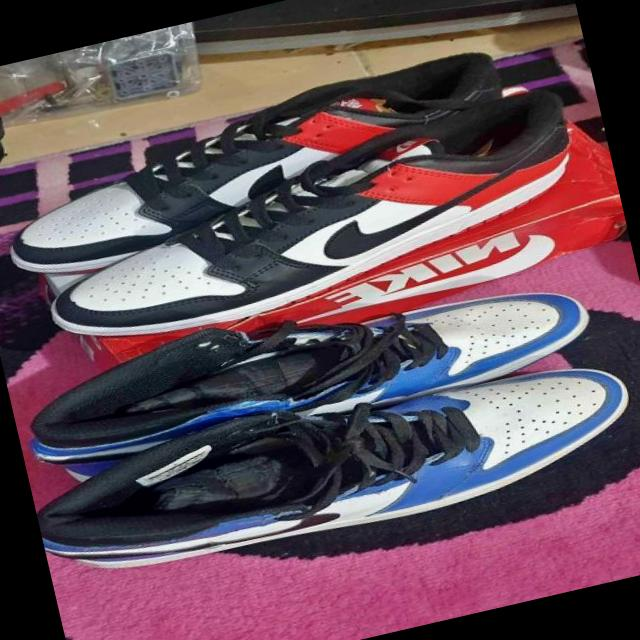nike_fake_jordan: (19, 72, 618, 366), (29, 345, 640, 603), (5, 246, 599, 494), (0, 37, 543, 288)
